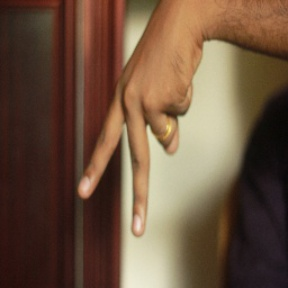Y: (77, 54, 193, 238)
